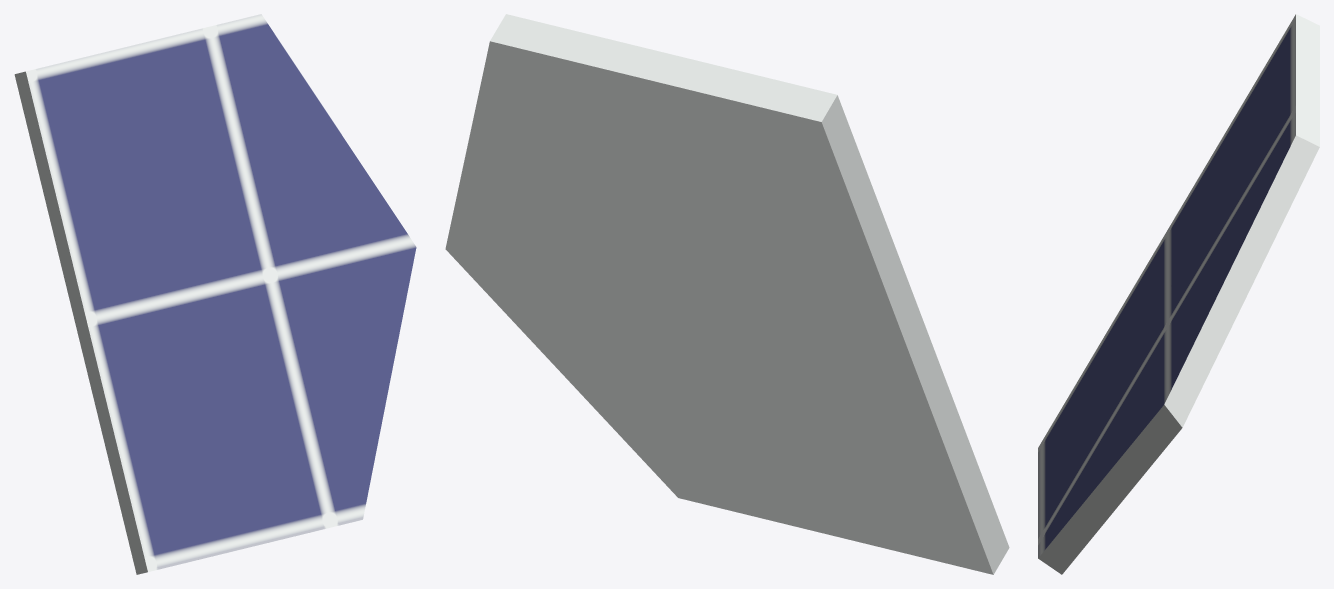
File: Fragment001.fbx
The picture shows the model from 3 angles, left to right: view 1: azimuth 30°, elevation 25°; view 2: azimuth 150°, elevation 25°; view 3: azimuth 270°, elevation 25°; orthographic projection. The views are drawn at different scales.
Visible parts, largest first — view 1: SatelliteFrag; view 2: SatelliteFrag; view 3: SatelliteFrag.
Part boxes in pixels (x1=…): SatelliteFrag: x1=14, y1=14, x2=416, y2=574; SatelliteFrag: x1=445, y1=14, x2=1009, y2=574; SatelliteFrag: x1=1038, y1=14, x2=1319, y2=574.
Size of the model in its own units: 149 by 181 by 104.
